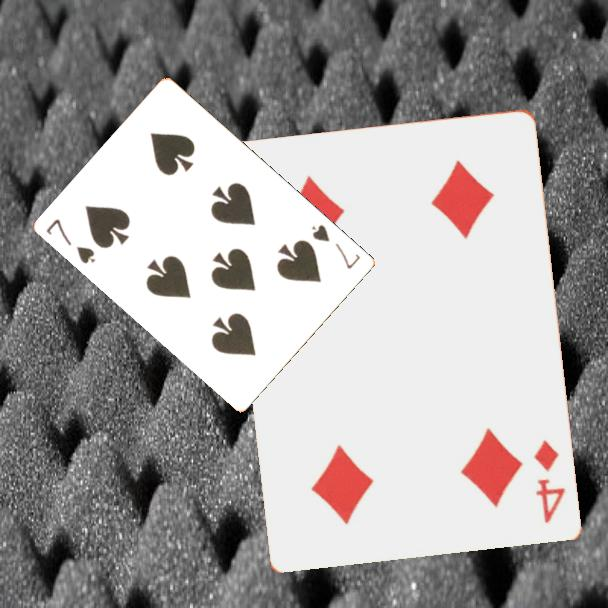d04: (530, 436, 568, 526)
s07: (43, 215, 99, 267), (308, 221, 364, 272)
